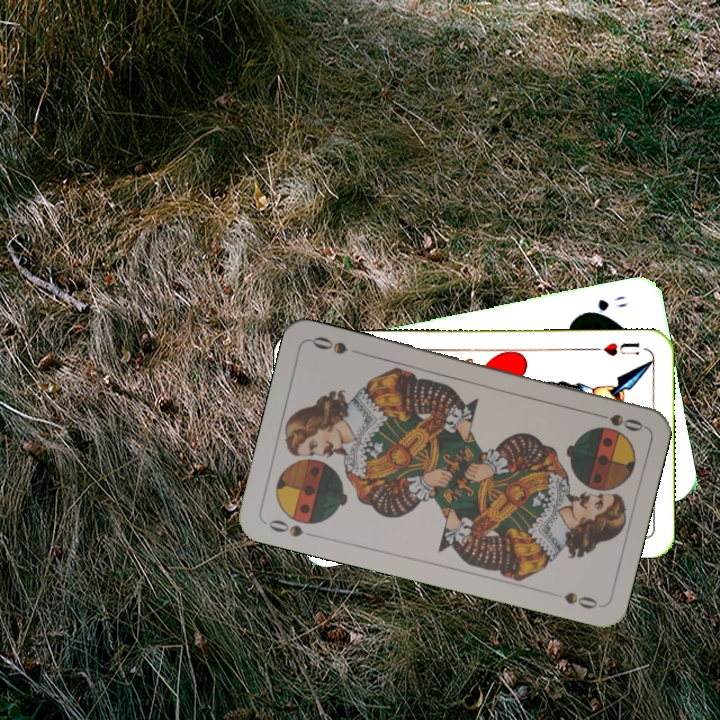GO: (579, 291, 630, 318)
HU: (589, 338, 642, 358)
SO: (588, 408, 646, 434), (264, 515, 306, 540)
